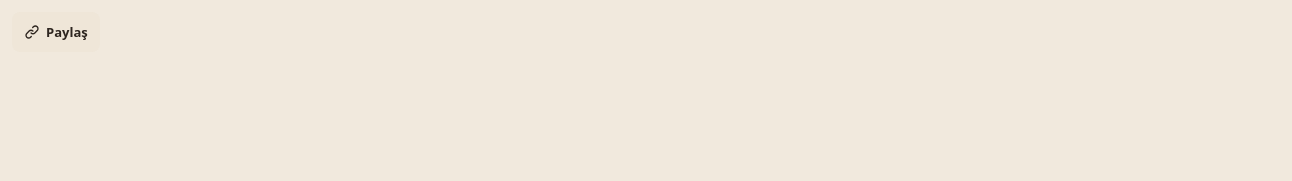
Test: share button › Escape closes the panel and returns focus to the button
Click the button with class "share-btn".
click(56, 32)  # box [12, 12, 100, 52]
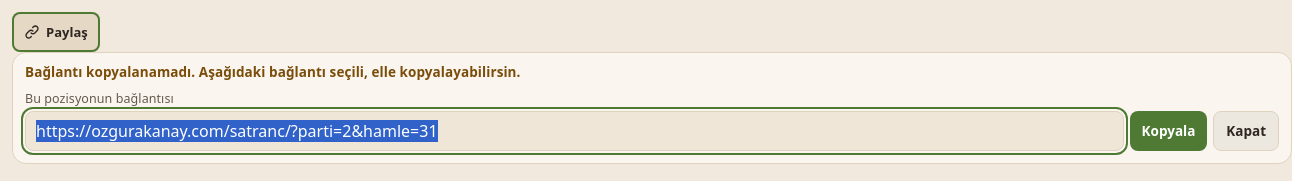
Press Escape in the field labelled "Bu pozisyonun bağlantısı", box [25, 111, 1124, 151]
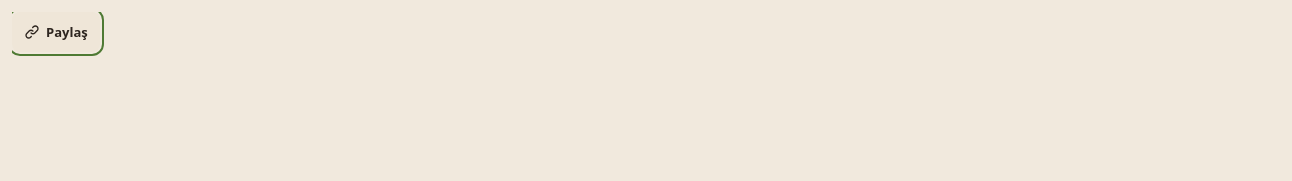
Now the field is gone
